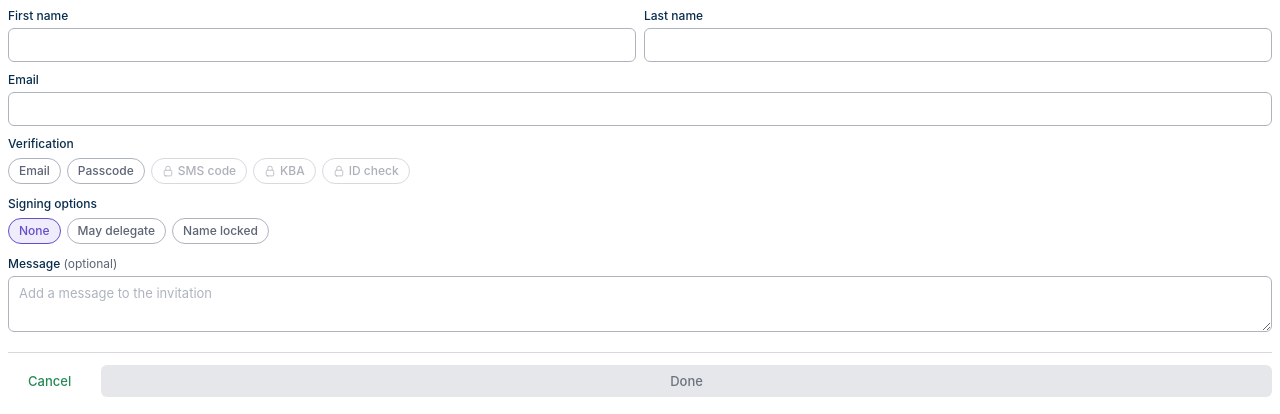
Test: ContactPicker › requires a name and a valid email before enabling Done
Expected: the button "Done" is disabled, 101,365 -> 1272,397
Type "Paige" into the field labelled "First name" at (322, 45), box 8,28 -> 636,62
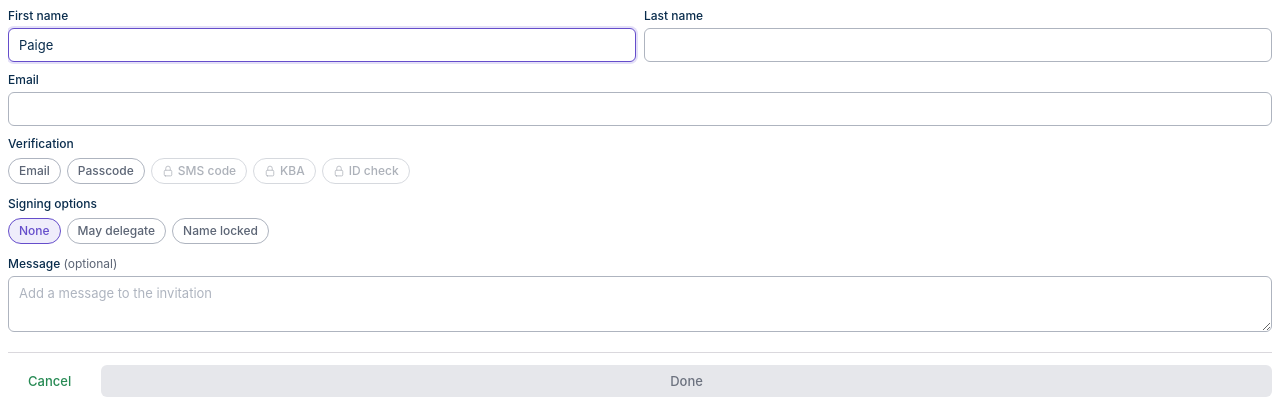
Type "Turner" into the field labelled "Last name" at (958, 45), box 644,28 -> 1272,62
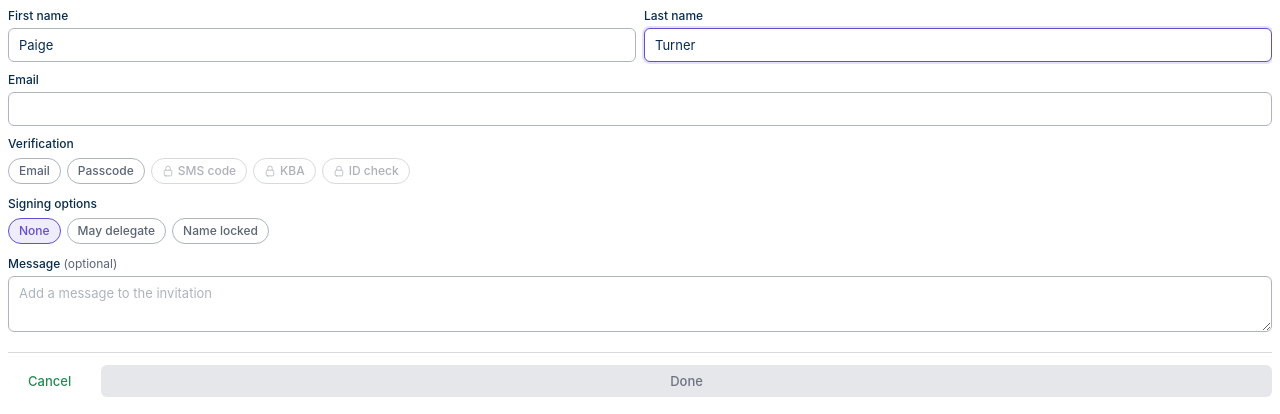
Type "not-an-email" into the field labelled "Email" at (640, 109), box 8,92 -> 1272,126
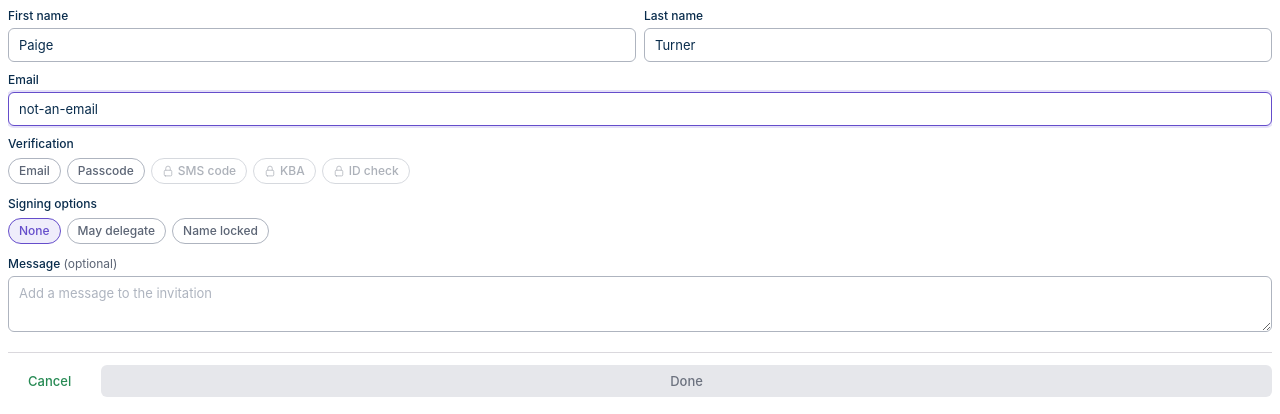
Expected: the button "Done" is disabled, 101,365 -> 1272,397
Replace the text in the field labelled "Email" with "paige.turner@example.com" at (640, 109), box 8,92 -> 1272,126
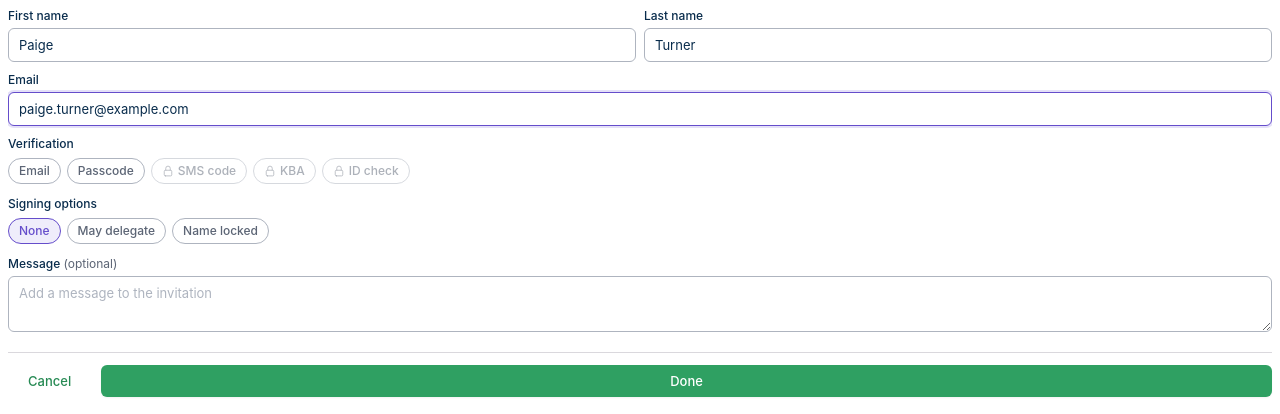
Result: the button "Done" is enabled at 101,365 -> 1272,397
